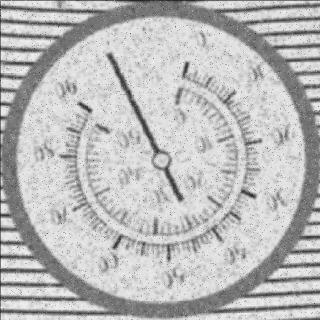gauge: (2, 0, 320, 320), (62, 86, 98, 122), (167, 49, 200, 87), (148, 148, 172, 170), (98, 49, 115, 68)
